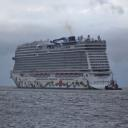cruises: (9, 35, 115, 92)
